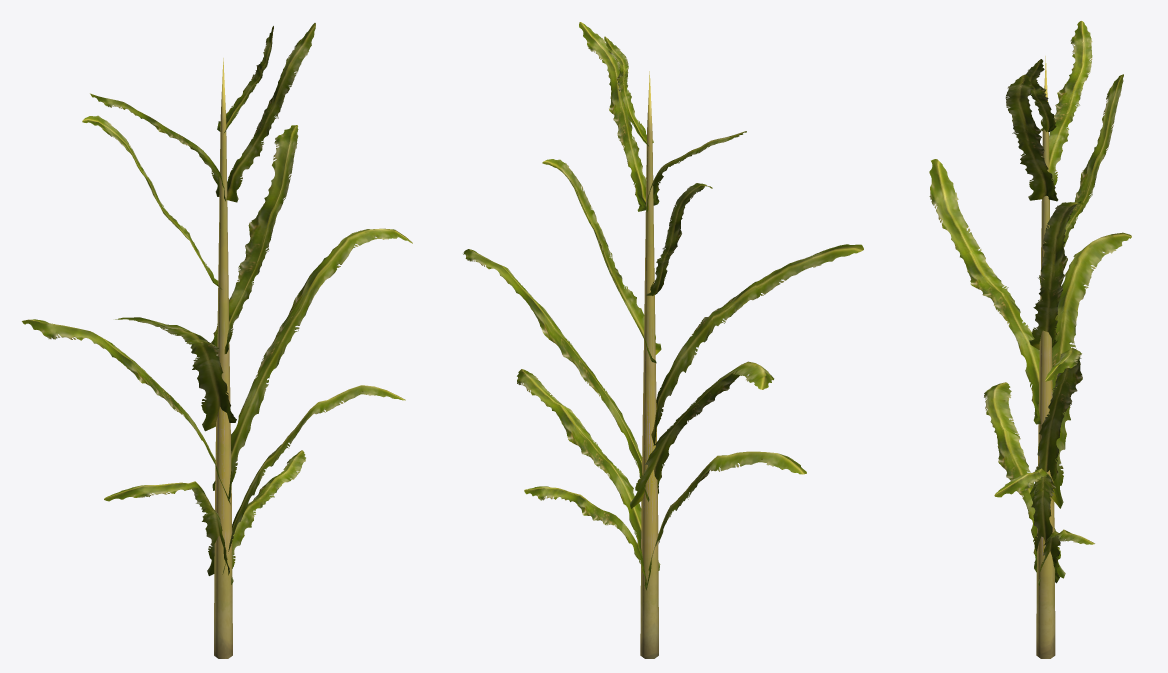
The model's file is corn.obj.
The picture shows the model from 3 angles, left to right: view 1: azimuth 30°, elevation 25°; view 2: azimuth 150°, elevation 25°; view 3: azimuth 270°, elevation 25°; orthographic projection. The views are drawn at different scales.
Visible parts, largest first — view 1: Circle; view 2: Circle; view 3: Circle.
Boxes of the visible parts, <box> form: Circle: <box>22,23,412,658</box>; Circle: <box>463,22,863,658</box>; Circle: <box>929,21,1131,658</box>.
Size of the model in its own units: 1.69 by 2.72 by 0.947.
